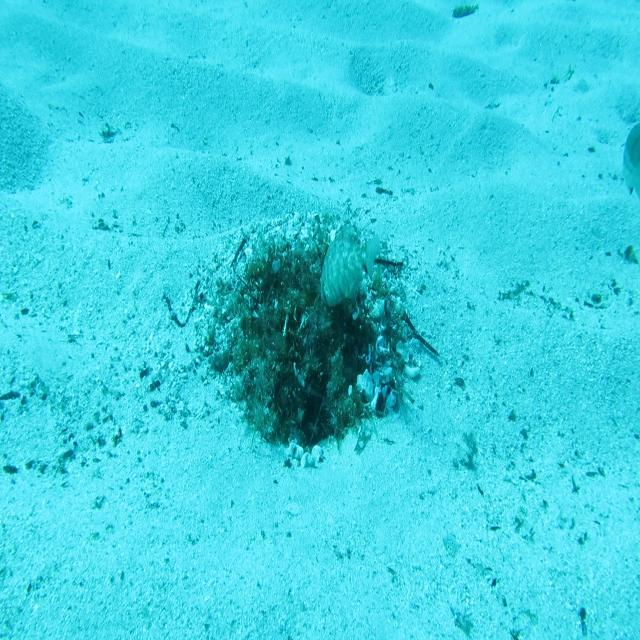NIP_CORE: (319, 216, 382, 312)
core_nest: (276, 268, 328, 307)
female: (621, 117, 640, 209)
nest: (185, 202, 434, 479)
vegetation: (450, 4, 481, 20)
